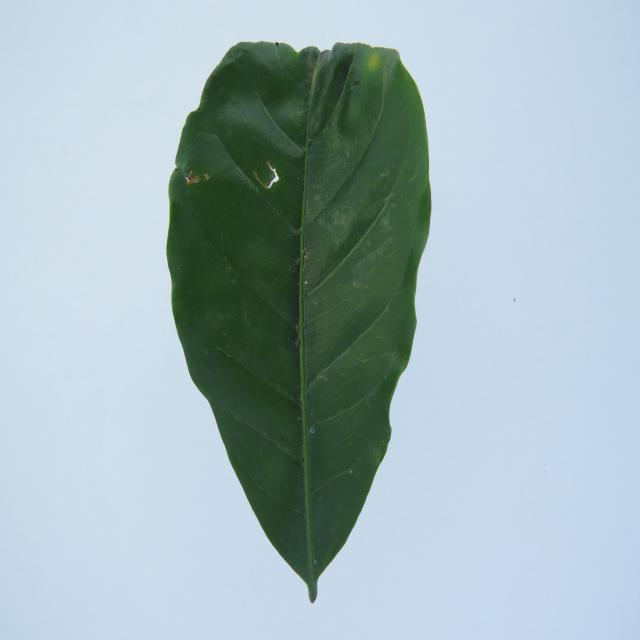DeficienciaNutricional-Boro: (168, 42, 431, 602)
